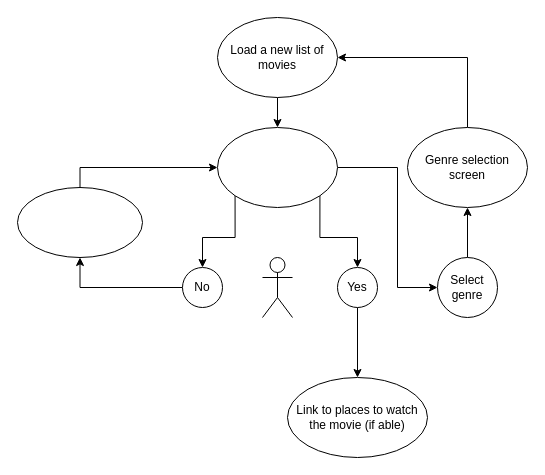
Image size: 545x475. Some labels were removed from this diagram. Each missing label, with the centre of its shape:
"Watch this movie?": pixel 277 167
Increment through movie list: pixel 79 222
User: pixel 277 287
